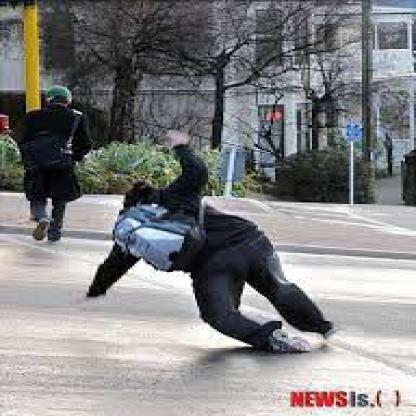Fall_Down: (81, 126, 346, 357)
